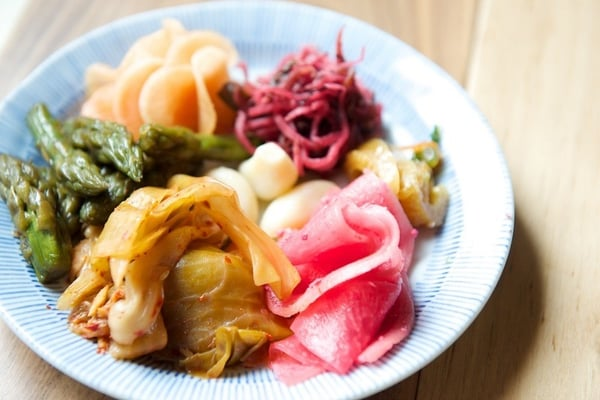curry: (0, 102, 146, 282), (25, 101, 145, 199)
sushi: (4, 1, 519, 392)
